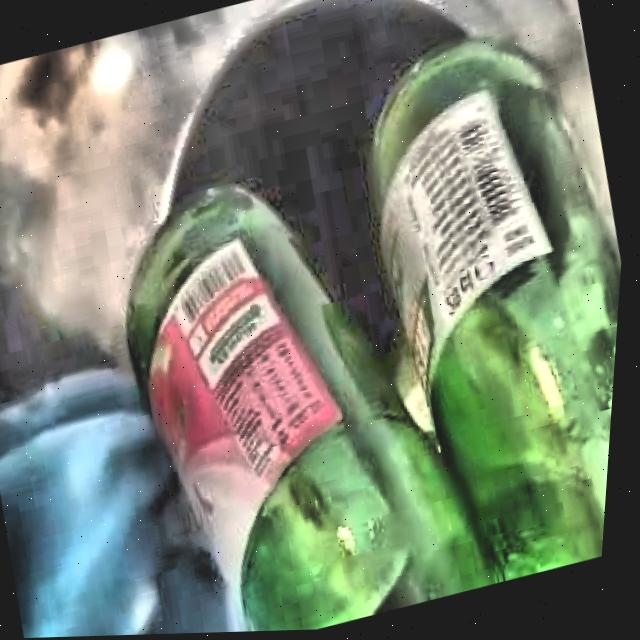glass: (135, 39, 625, 633)
